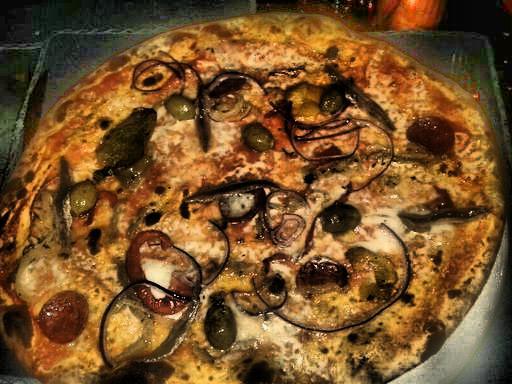pizza: (2, 15, 495, 381)
